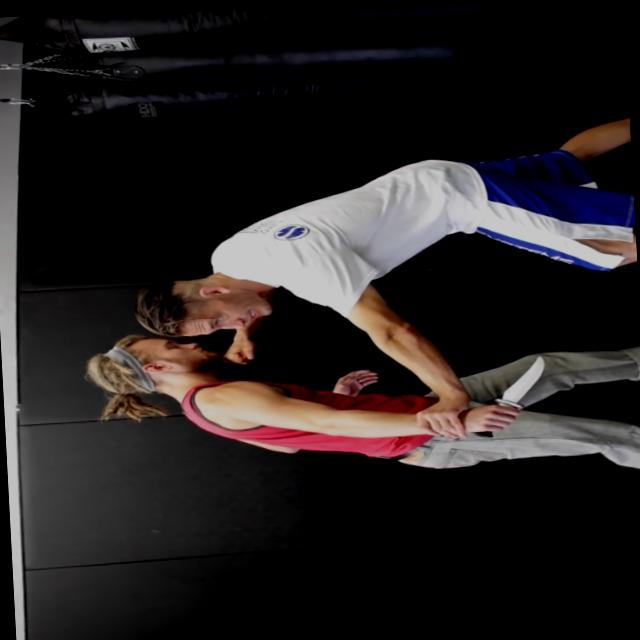knife: (461, 351, 559, 442)
